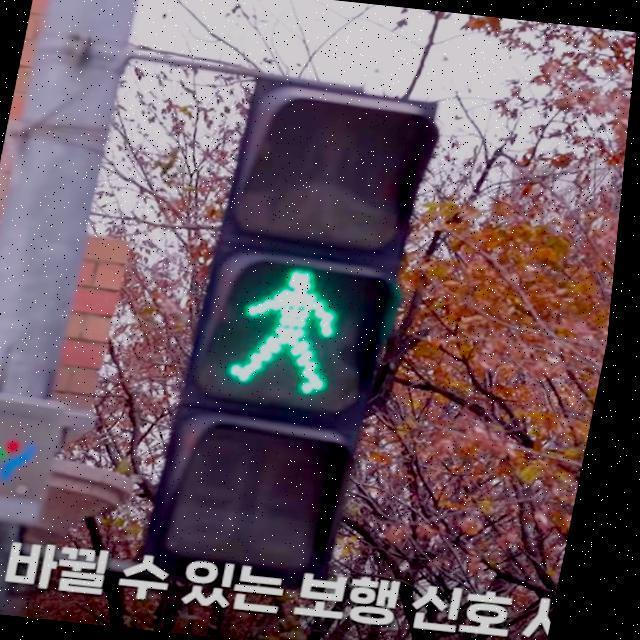greenlight: (175, 86, 440, 429)
